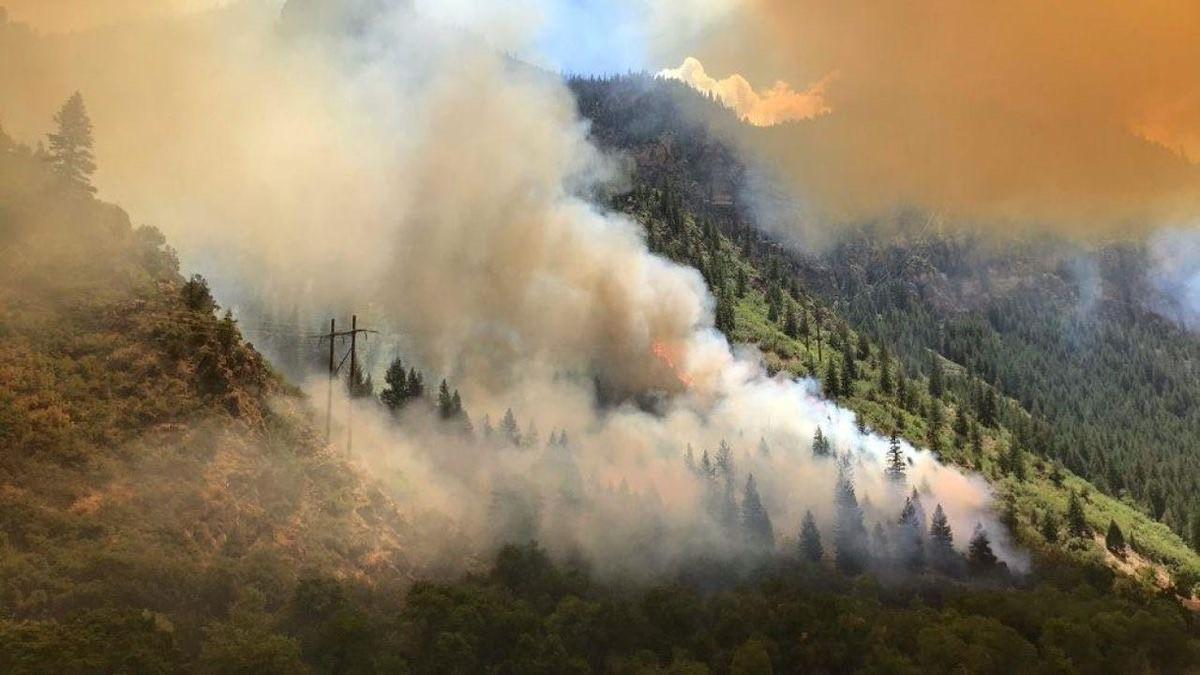smoke: (100, 0, 998, 596)
